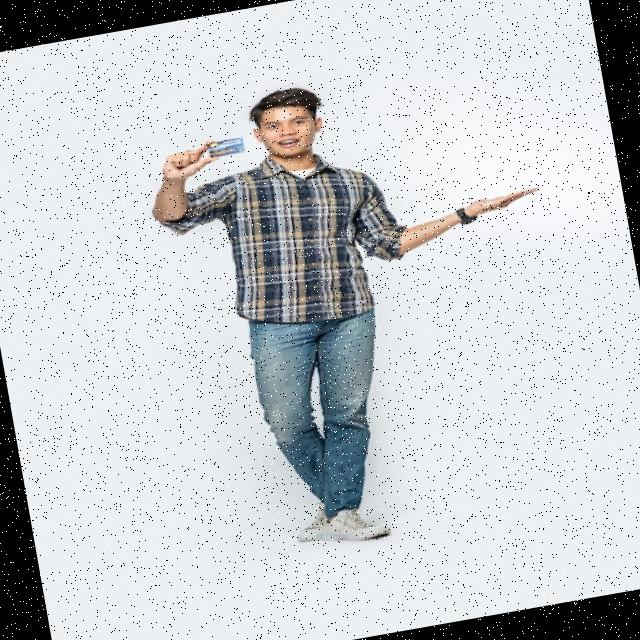Person: (135, 49, 595, 567)
